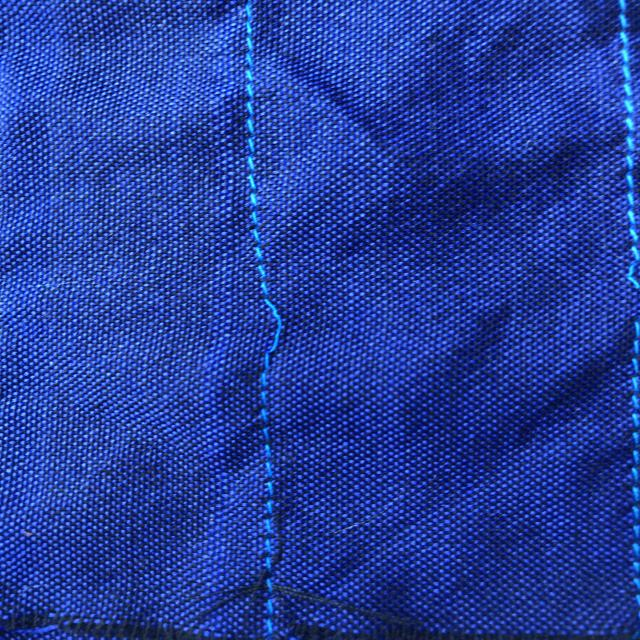skip: (235, 278, 316, 367)
